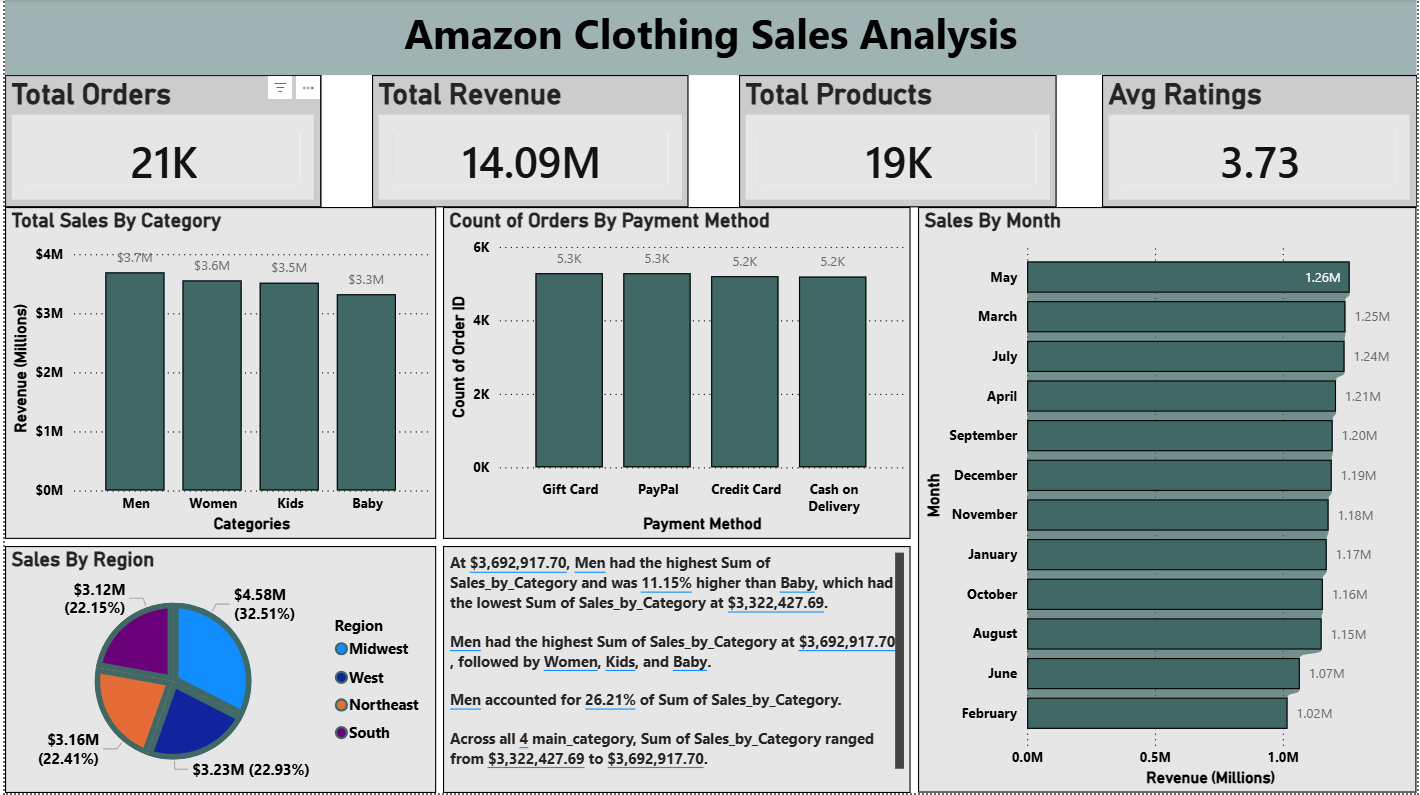

What the dashboard file says about the page in this screenshot:
{"tool":"powerbi","page":{"name":"Page 1","canvas":[1280,720],"ordinal":0},"visuals":[{"type":"textbox","box":[0,0,1280,69.1],"z":0},{"type":"cardVisual","title":"Total Orders","fields":{"Data":["Amazon_Clothing_Sales_2025.Total_Orders"]},"box":[0,68.9,286.5,119.7],"z":1000},{"type":"cardVisual","title":"Total Revenue","fields":{"Data":["Amazon_Clothing_Sales_2025.Total_Revenue"]},"box":[332.8,68.9,287.5,119.7],"z":2000},{"type":"cardVisual","title":"Total Products","fields":{"Data":["Dim_Product.Total_Products"]},"box":[665.6,68.9,288.4,119.7],"z":3000},{"type":"cardVisual","title":"Avg Ratings","fields":{"Data":["Amazon_Clothing_Sales_2025.Avg_Ratings"]},"box":[994.8,68.9,285.6,119.7],"z":4000},{"type":"barChart","title":"Sales By Month","fields":{"Y":["Sum(Calendar_Table.Sales_Per_Day)"],"Category":["Calendar_Table.Month"]},"box":[827.7,188.7,452.3,531.1],"z":5000},{"type":"columnChart","title":"Total Sales By Category","fields":{"Category":["Dim_Category.main_category"],"Y":["Sum(Dim_Category.Sales_by_Category)"]},"box":[0,188.6,390.8,301.1],"z":6000},{"type":"pieChart","title":"Sales By Region","fields":{"Y":["Sum(Dim_Region.Sales_by_Region)"],"Category":["Dim_Region.region"]},"box":[0,496,390.8,224],"z":7000},{"type":"clusteredColumnChart","title":"Count of Orders By Payment Method","fields":{"Y":["CountNonNull(Amazon_Clothing_Sales_2025.order_id)"],"Category":["Dim_Payment_Method.payment_method"]},"box":[397.2,188.6,424.4,301.1],"z":8000},{"type":"textbox","box":[397.2,496,424.4,224],"z":9000}]}

Visuals, with their boxes in screenshot pixels (x1, y1, x2, y2), scaled from the page's 1280x720 canvas onto the 1420x795 screenshot:
textbox: box=[0, 0, 1419, 76]
"Total Orders" cardVisual: box=[0, 76, 318, 208]
"Total Revenue" cardVisual: box=[369, 76, 688, 208]
"Total Products" cardVisual: box=[738, 76, 1058, 208]
"Avg Ratings" cardVisual: box=[1104, 76, 1419, 208]
"Sales By Month" barChart: box=[918, 208, 1419, 794]
"Total Sales By Category" columnChart: box=[0, 208, 434, 541]
"Sales By Region" pieChart: box=[0, 548, 434, 794]
"Count of Orders By Payment Method" clusteredColumnChart: box=[441, 208, 911, 541]
textbox: box=[441, 548, 911, 794]
